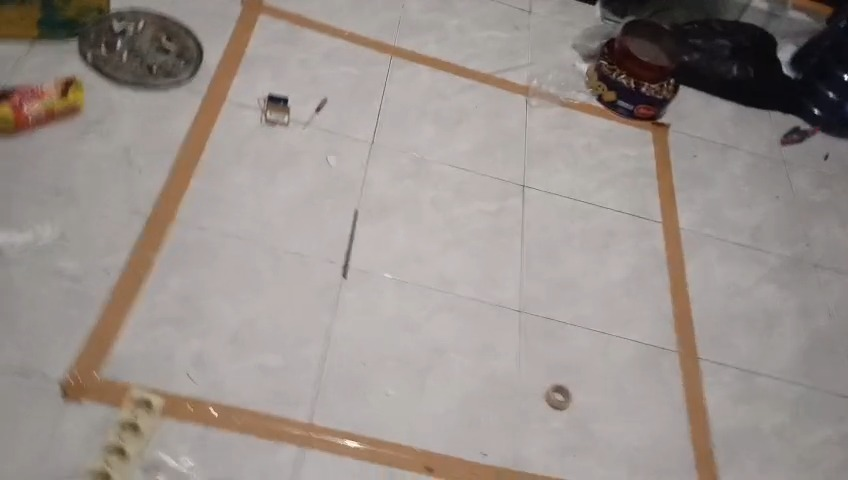floor marking: (62, 0, 530, 406), (549, 96, 718, 479), (158, 392, 556, 479)
